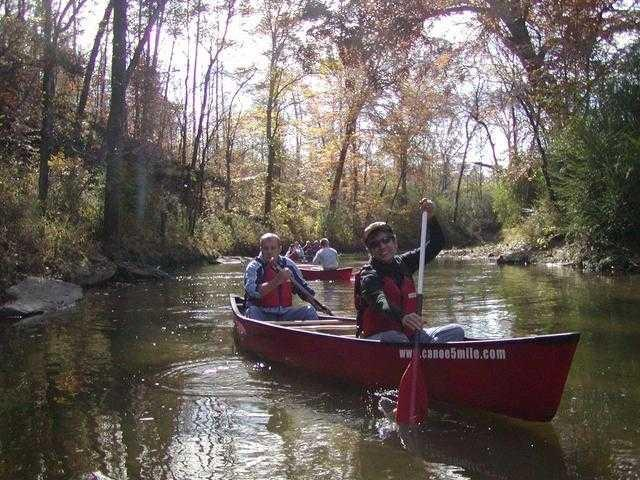kayak: (228, 294, 581, 423), (295, 263, 356, 283)
